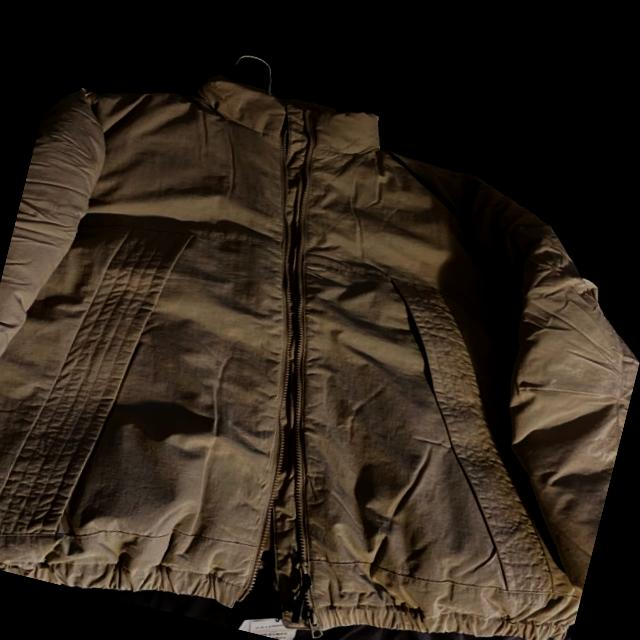padding: (0, 32, 640, 640)
